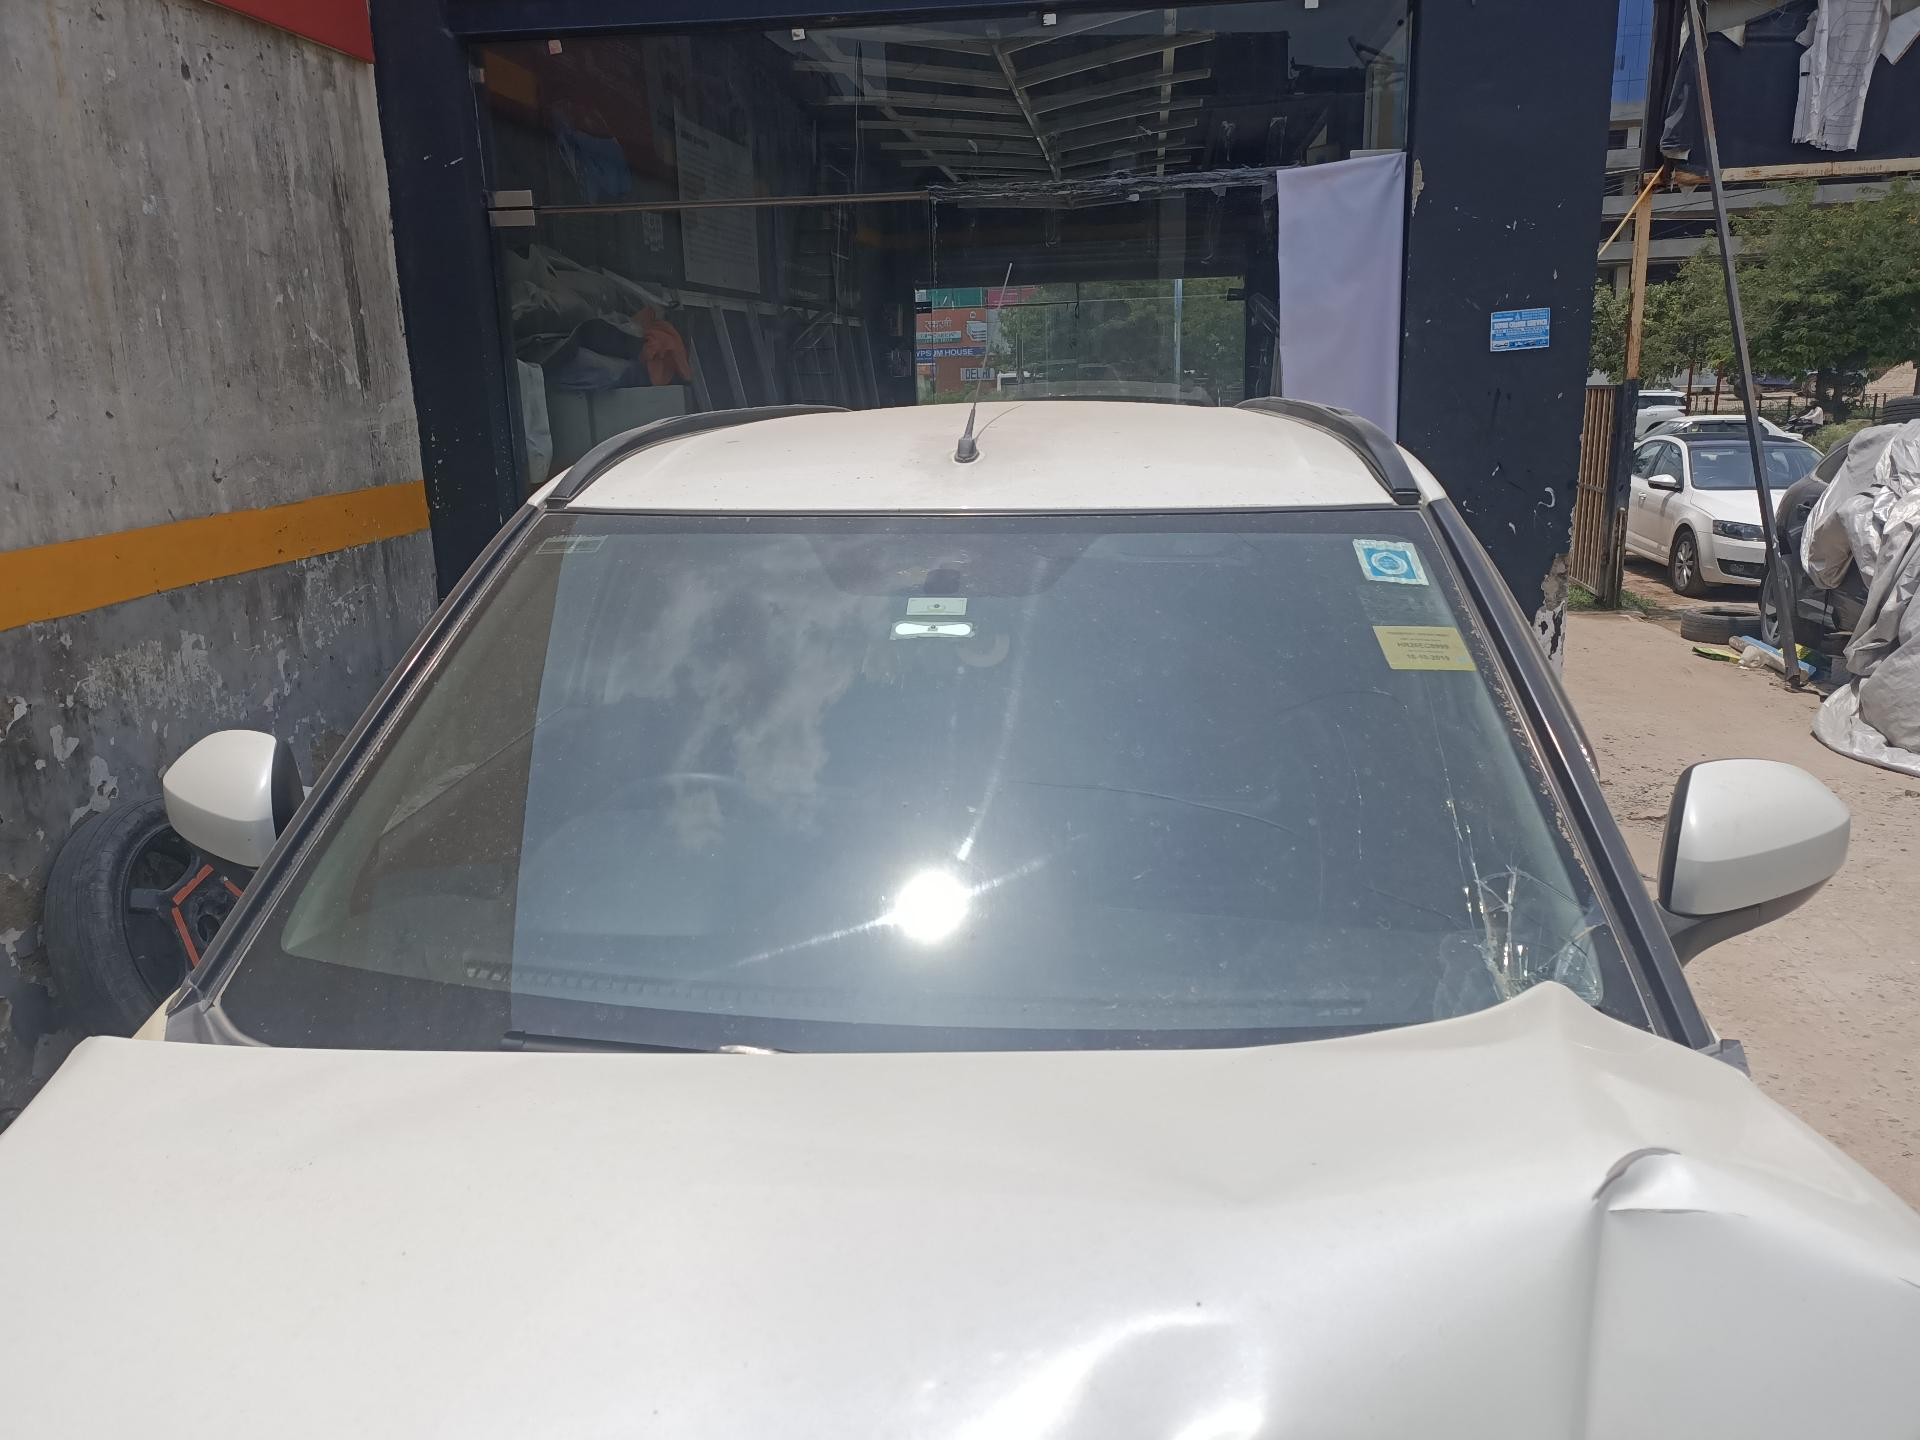FastTag: (877, 613, 1005, 659)
not a FastTag: (1377, 608, 1483, 687), (1352, 538, 1439, 594), (906, 587, 969, 611)
